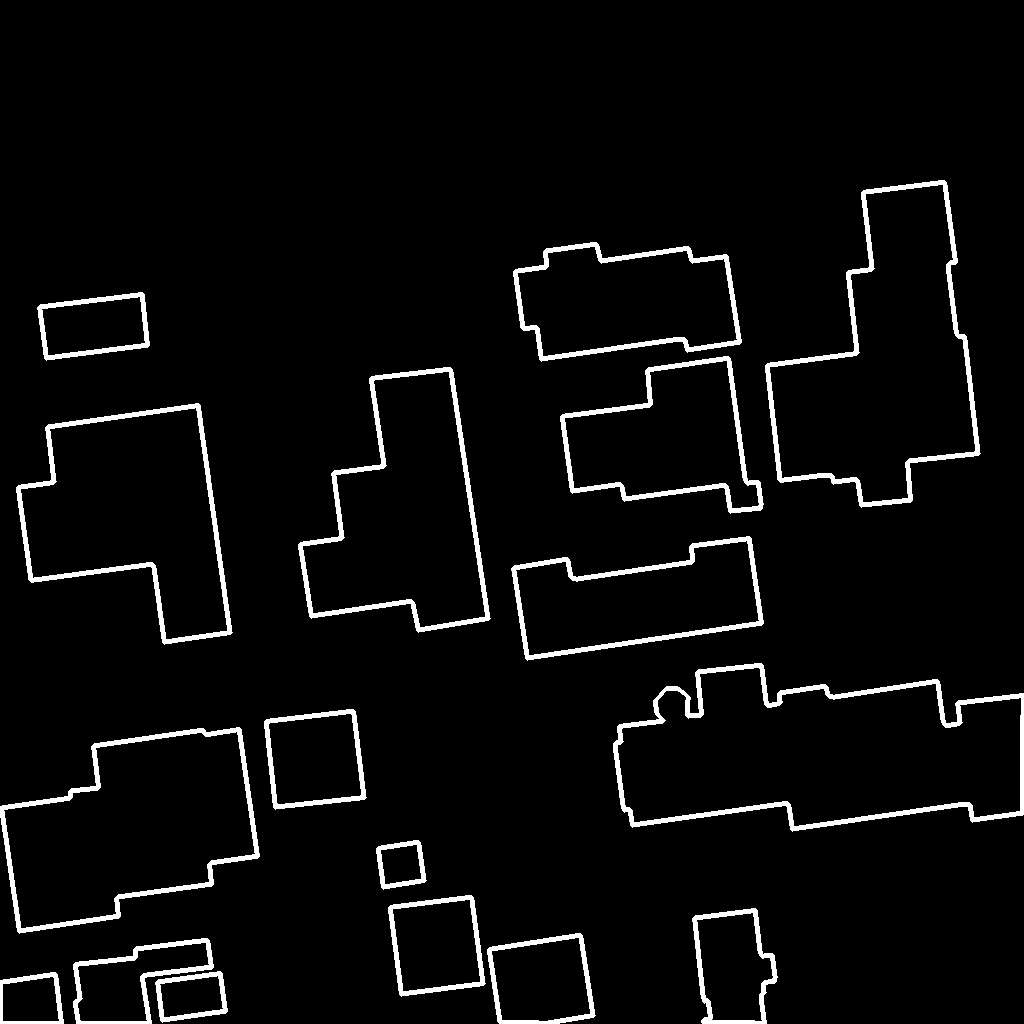building: (767, 182, 979, 506), (615, 665, 1024, 830), (1, 729, 259, 932), (18, 405, 231, 643), (300, 369, 489, 631), (562, 358, 762, 512), (513, 538, 763, 659), (515, 244, 741, 360), (75, 940, 213, 1024), (266, 711, 365, 808), (694, 910, 776, 1024), (489, 935, 594, 1024), (390, 897, 484, 995), (39, 294, 149, 359), (157, 973, 227, 1021), (0, 974, 63, 1024), (378, 842, 425, 888)
